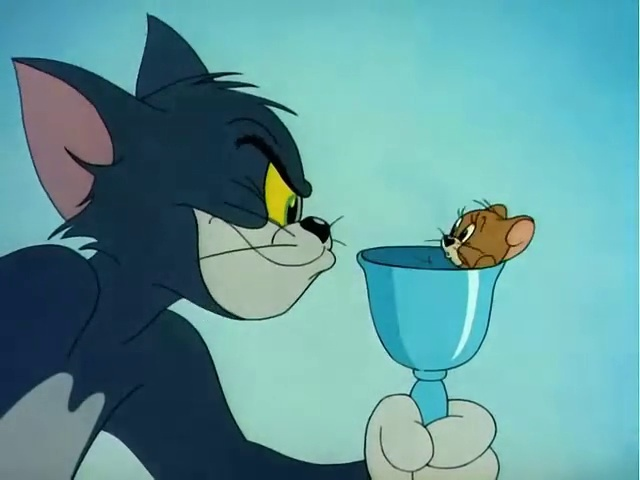jerry: (406, 176, 542, 298)
tom: (5, 24, 343, 478)
